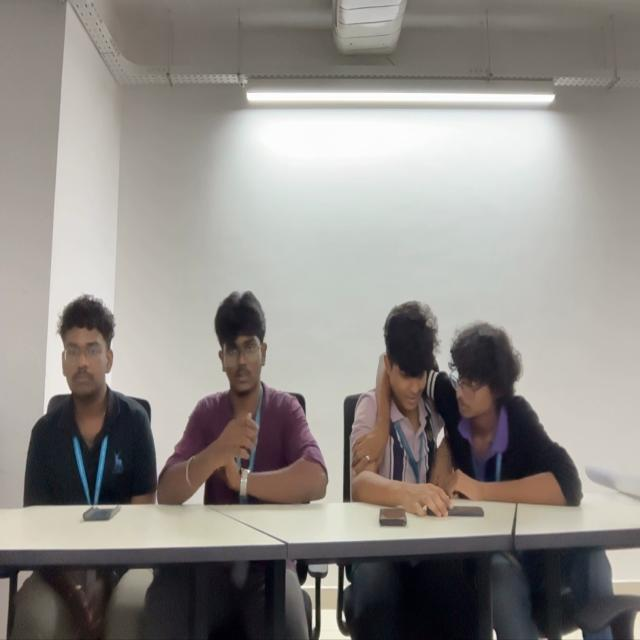Isolated: (157, 290, 329, 500), (21, 293, 154, 500)
socializing: (348, 302, 583, 506)
